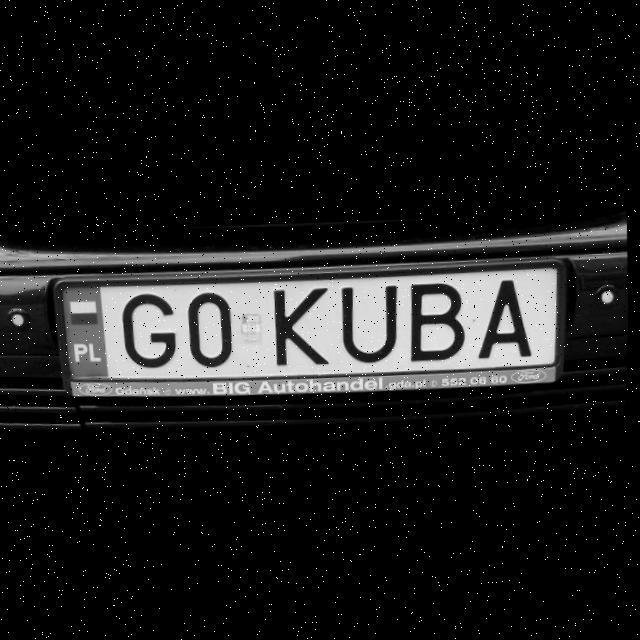license-plates: (62, 269, 558, 380)
